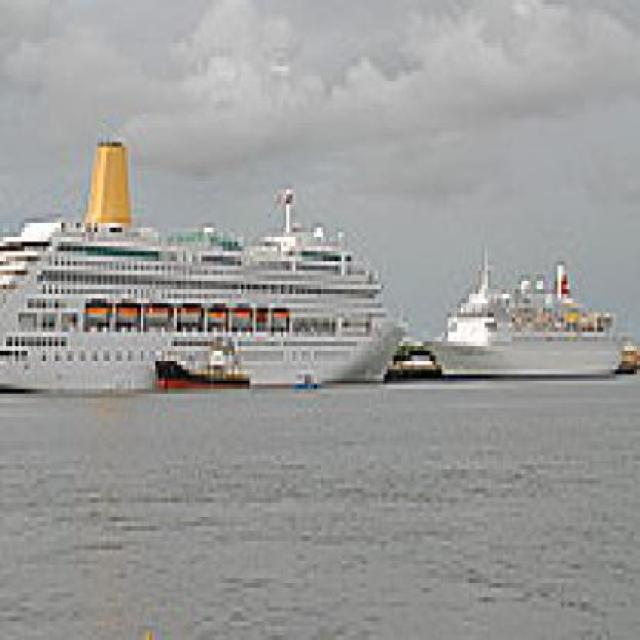cruise: (1, 137, 416, 399), (421, 243, 638, 400)
